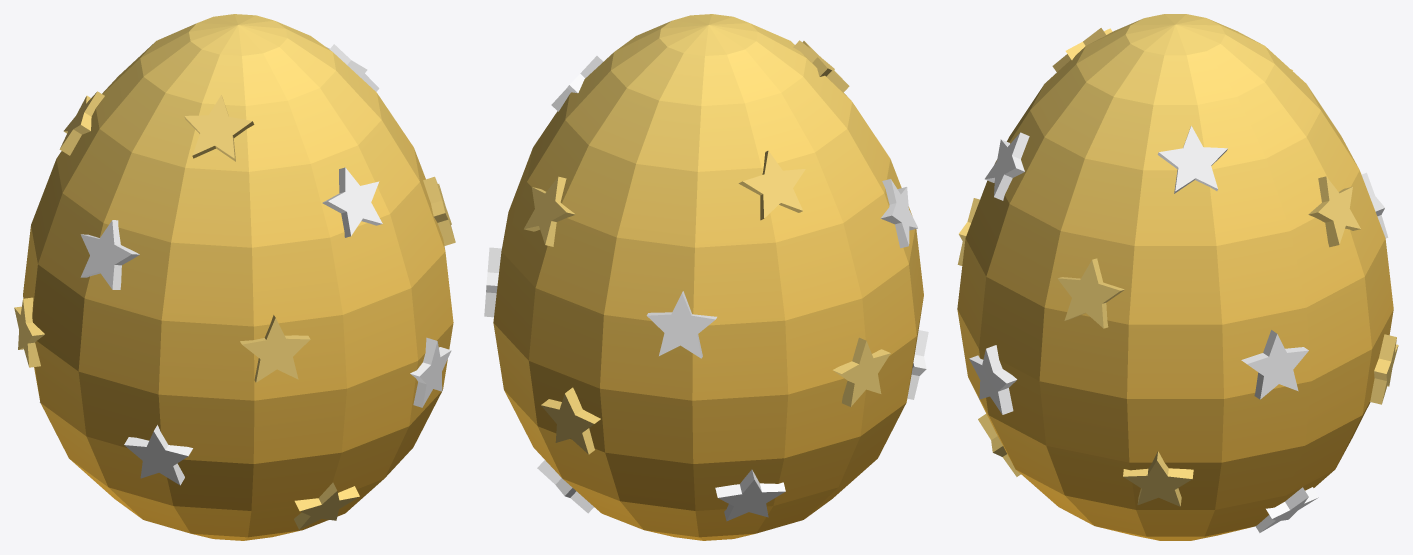
File: egg_ssr.glb
3 renders of one model, left to right at view 1: azimuth 30°, elevation 25°; view 2: azimuth 150°, elevation 25°; view 3: azimuth 270°, elevation 25°, orthographic.
Visible parts, largest first — view 1: shell; view 2: shell; view 3: shell.
Part boxes in pixels (left/top/right/bottom): shell: left=14, top=14, right=455, bottom=540; shell: left=484, top=14, right=928, bottom=540; shell: left=957, top=14, right=1398, bottom=540.
Bounding box in the file's own units: 1.02 × 1.27 × 1.02.
Materials: 1 (1 with a texture image).
